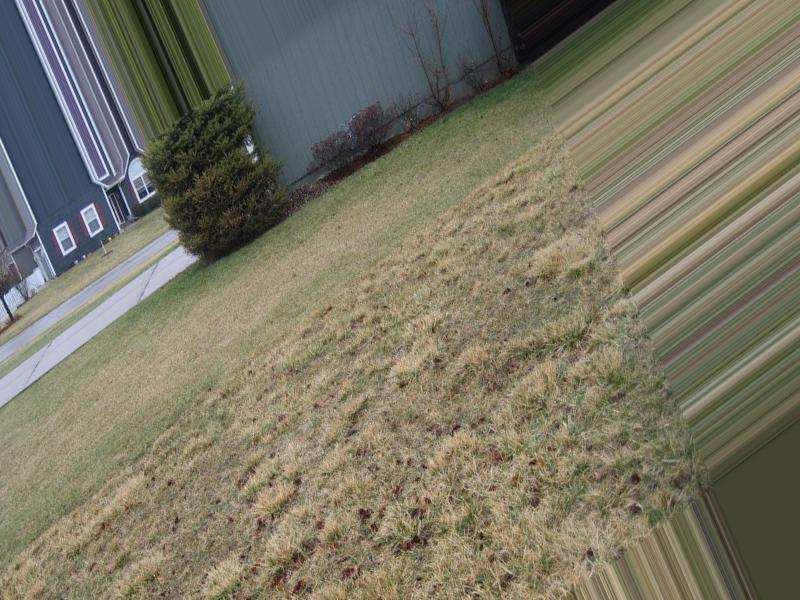patch: (530, 222, 593, 290), (262, 454, 316, 510), (512, 376, 566, 392)
